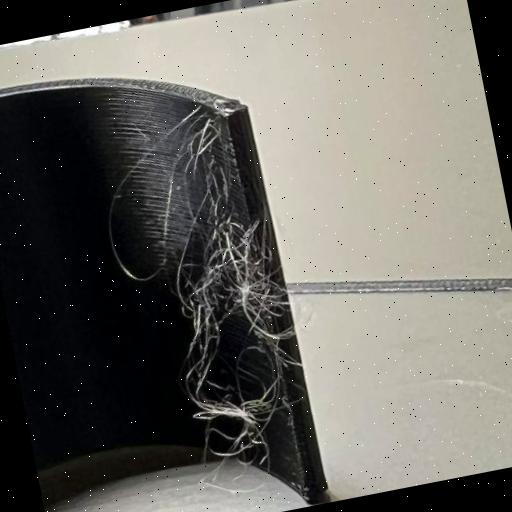stringing: (149, 128, 300, 473)
